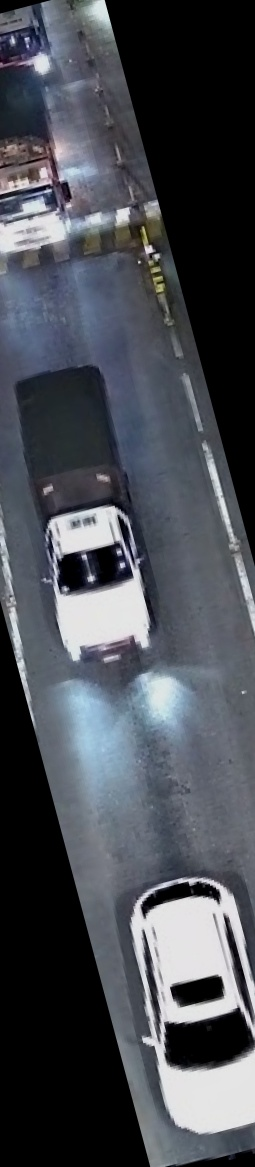car: (90, 849, 255, 1162)
truck: (0, 340, 192, 687), (0, 46, 97, 280)
